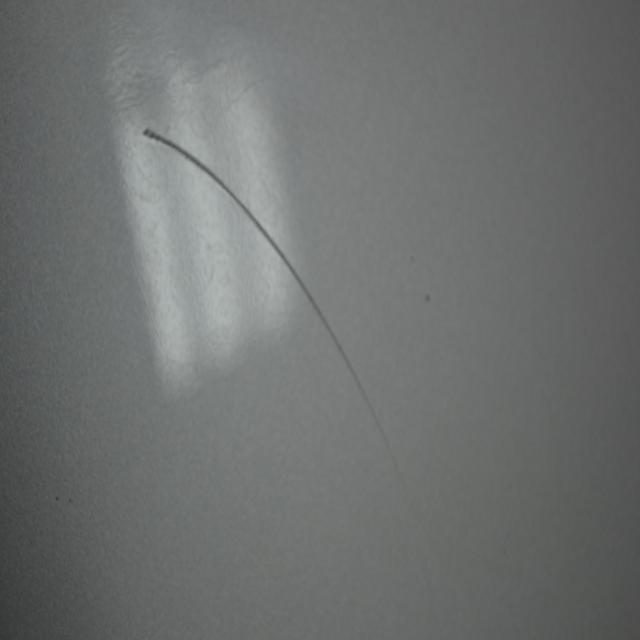dirt: (407, 249, 418, 269), (423, 288, 432, 308)
scratch: (138, 123, 417, 506)
